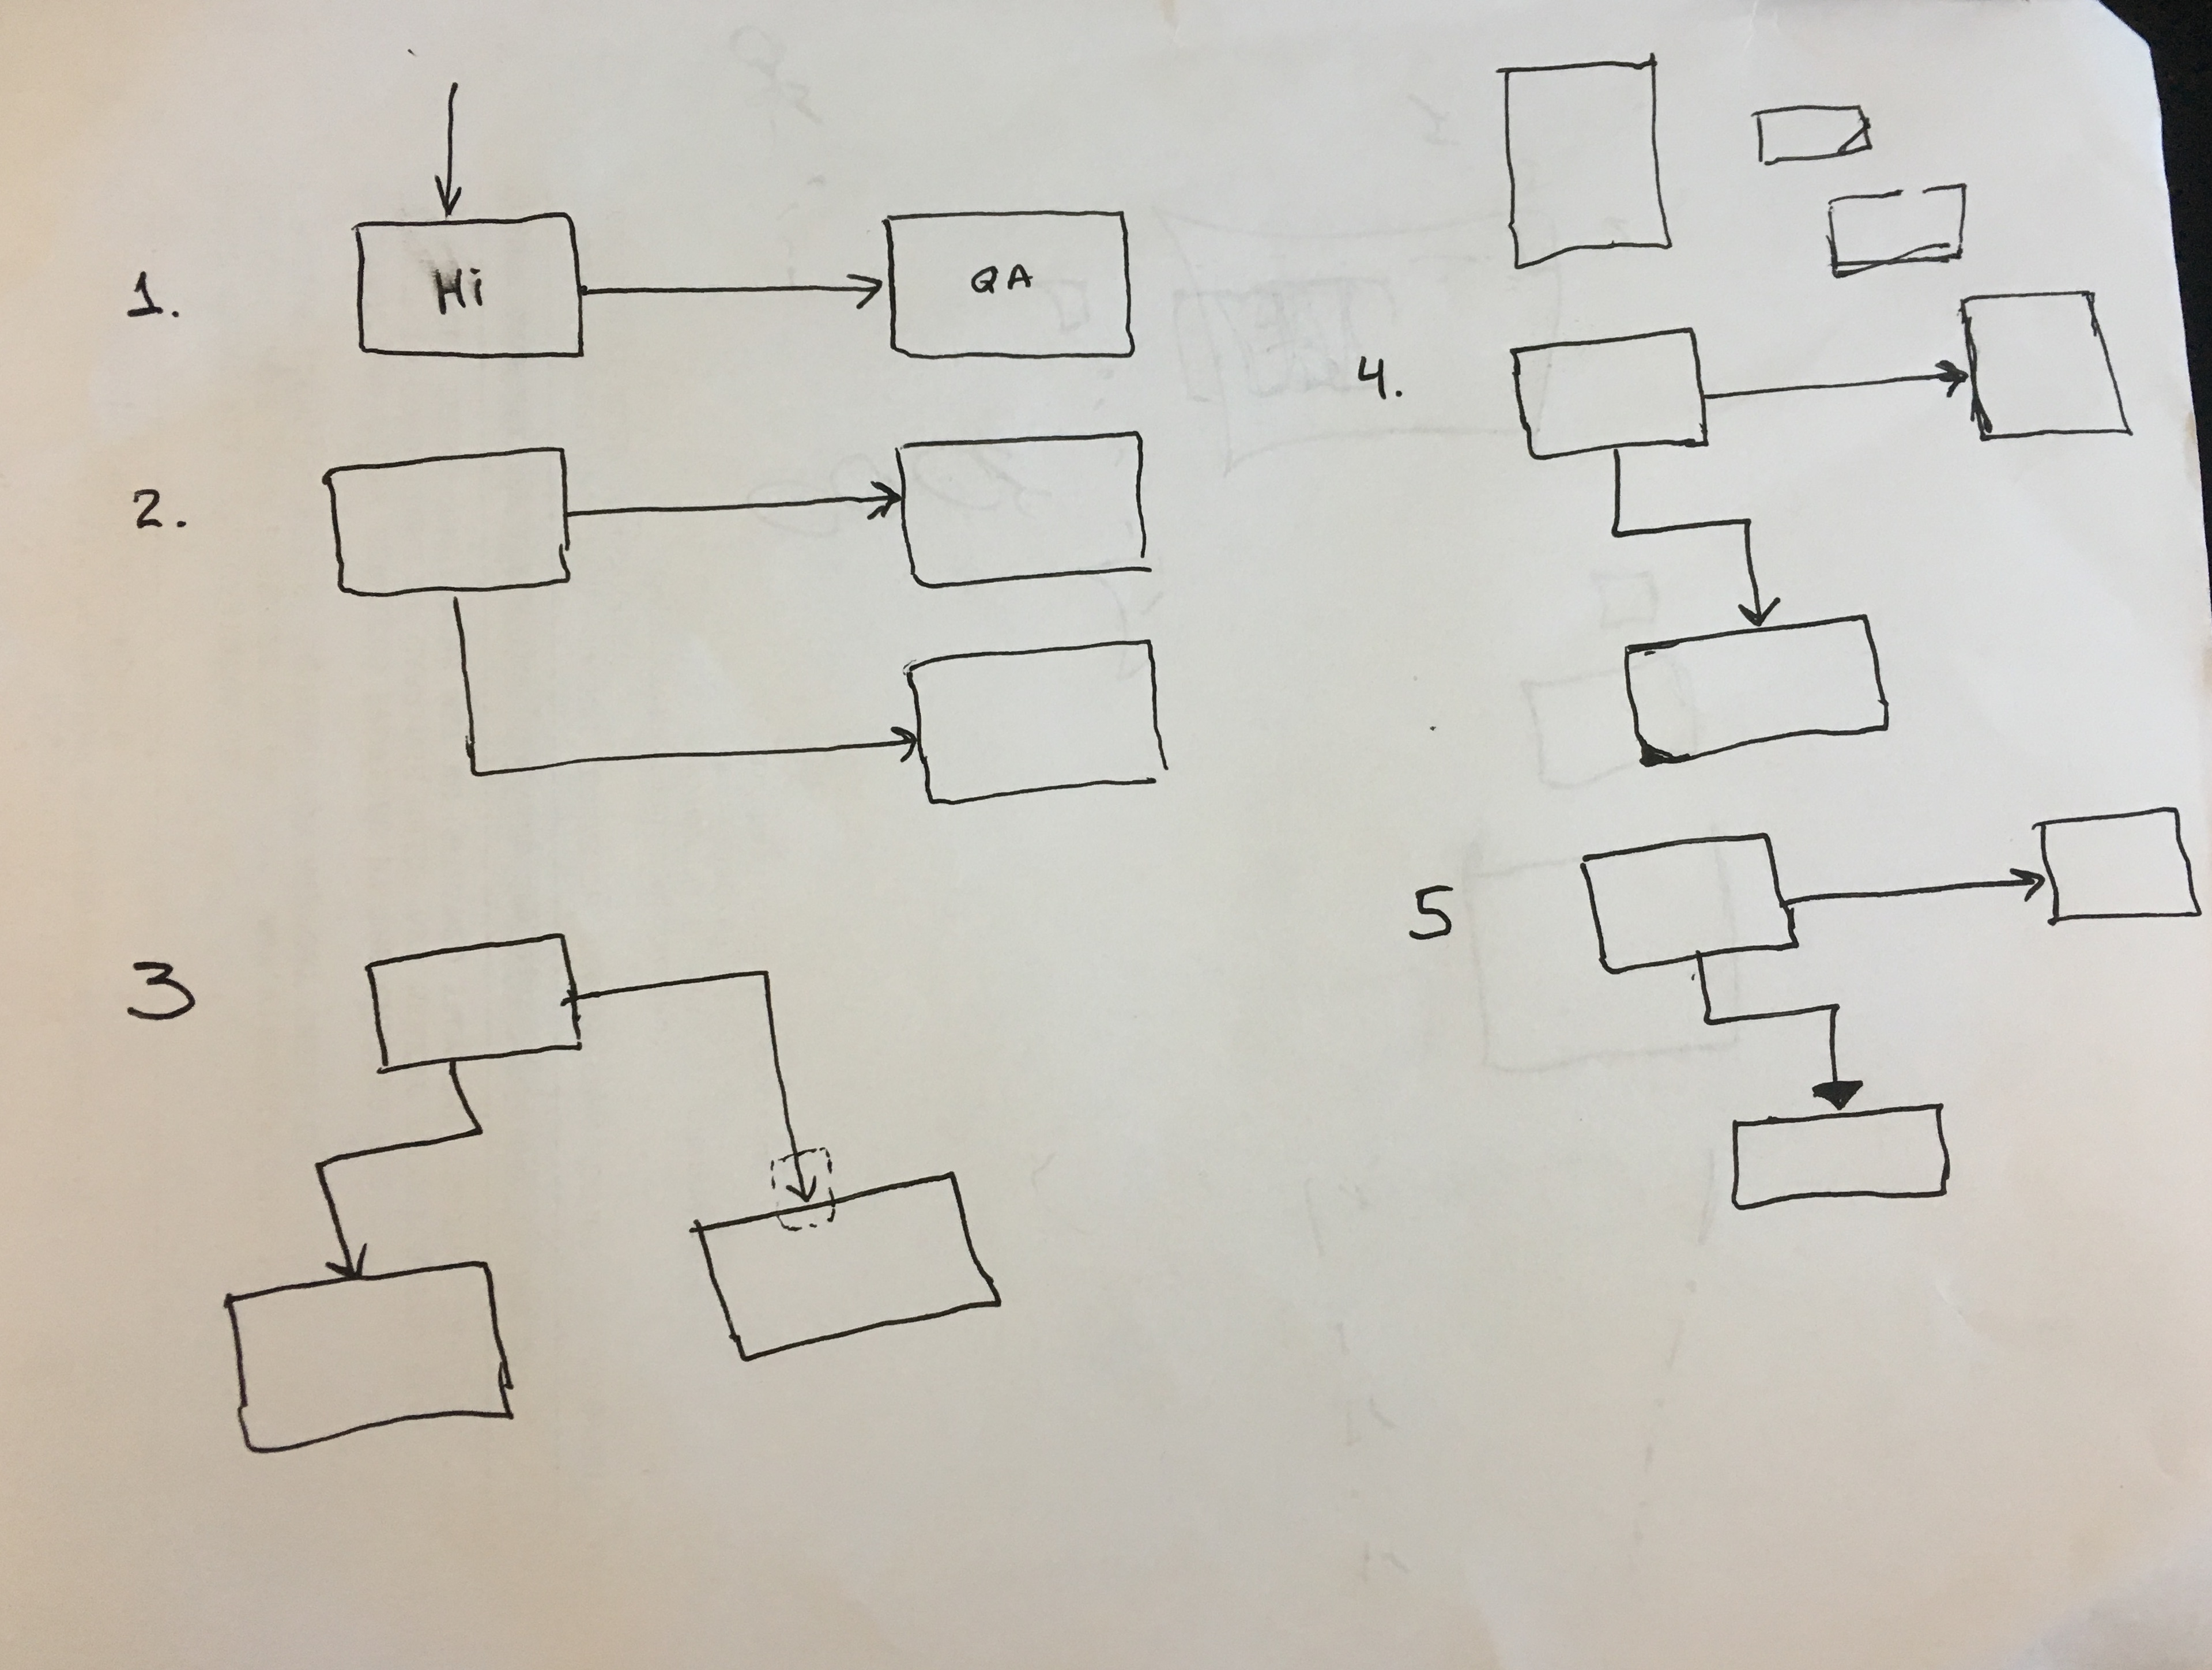arrow: (828, 256, 916, 318), (1986, 854, 2068, 910), (421, 168, 481, 239), (319, 1235, 381, 1296), (777, 1163, 824, 1231), (1921, 356, 1986, 403), (849, 481, 916, 526), (1807, 1065, 1870, 1112), (1733, 589, 1784, 644)
